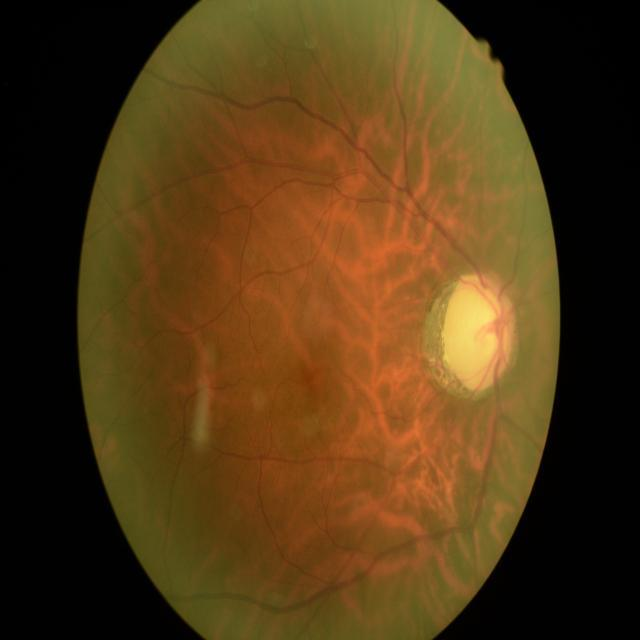cup: (448, 284, 507, 378)
disk: (442, 270, 517, 390)
